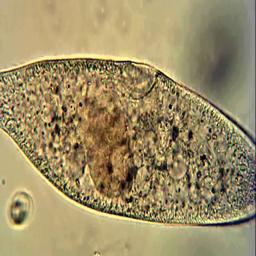Paramecium: (0, 59, 256, 226)
